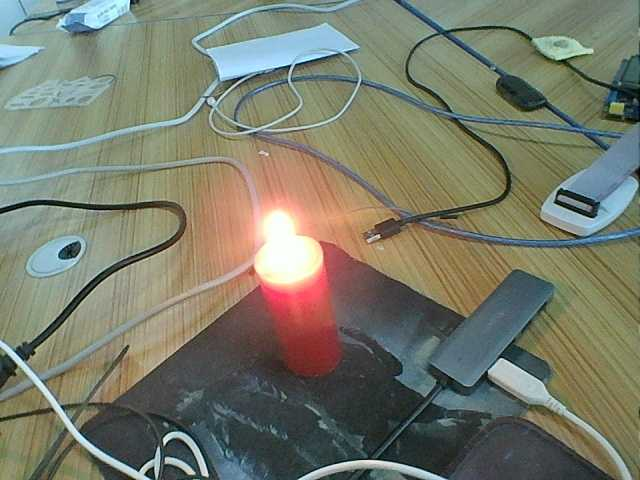candle: (257, 281, 346, 377)
fire: (246, 208, 320, 275)
